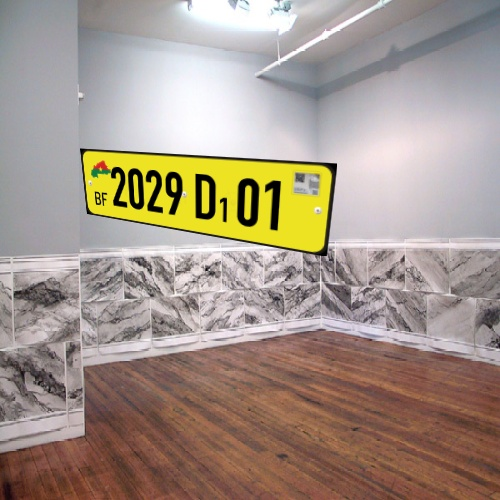plate: (69, 131, 354, 264)
